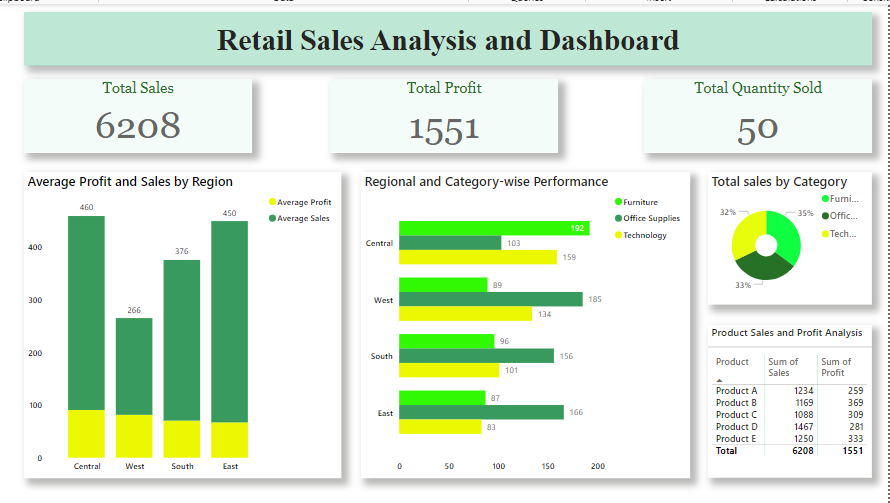

What the dashboard file says about the page in this screenshot:
{"tool":"powerbi","page":{"name":"Page 1","canvas":[1280,720],"ordinal":0},"visuals":[{"type":"card","title":"Total  Sales","fields":{"Values":["superstore_data.Total sales"]},"box":[34.3,108.6,328.6,105.7],"z":0},{"type":"card","title":"Total Profit","fields":{"Values":["superstore_data.Total Profit"]},"box":[475.7,108.6,328.6,105.7],"z":1000},{"type":"card","title":"Total Quantity Sold","fields":{"Values":["superstore_data.Total Quantity Sold"]},"box":[927.1,108.6,328.6,105.7],"z":2000},{"type":"clusteredBarChart","title":"Regional and Category-wise Performance ","fields":{"Category":["superstore_data.Region"],"Series":["superstore_data.Category"],"Y":["superstore_data.Total Profit"]},"box":[520,241.4,474.3,441.4],"z":3000},{"type":"columnChart","title":"Average Profit and  Sales by Region","fields":{"Category":["superstore_data.Region"],"Y":["superstore_data.Average Profit","superstore_data.Average Sales"]},"box":[34.3,241.4,457.1,441.4],"z":4000},{"type":"textbox","box":[34.3,11.4,1221.4,77.1],"z":5000},{"type":"donutChart","fields":{"Y":["superstore_data.Total sales"],"Category":["superstore_data.Category"]},"box":[1020,241.4,235.7,191.4],"z":6000},{"type":"tableEx","title":"Product Sales and Profit Analysis","fields":{"Values":["superstore_data.Product","Sum(superstore_data.Sales)","Sum(superstore_data.Profit)"]},"box":[1020,462.9,235.7,220],"z":7000}]}

Visuals, with their boxes in screenshot pixels (x1, y1, x2, y2), scaled from the page's 1280x720 canvas onto the 890x503 screenshot:
"Total  Sales" card: box(24, 76, 252, 150)
"Total Profit" card: box(331, 76, 559, 150)
"Total Quantity Sold" card: box(645, 76, 873, 150)
"Regional and Category-wise Performance " clusteredBarChart: box(362, 169, 691, 477)
"Average Profit and  Sales by Region" columnChart: box(24, 169, 342, 477)
textbox: box(24, 8, 873, 62)
donutChart - superstore_data.Total sales x superstore_data.Category: box(709, 169, 873, 302)
"Product Sales and Profit Analysis" tableEx: box(709, 323, 873, 477)
